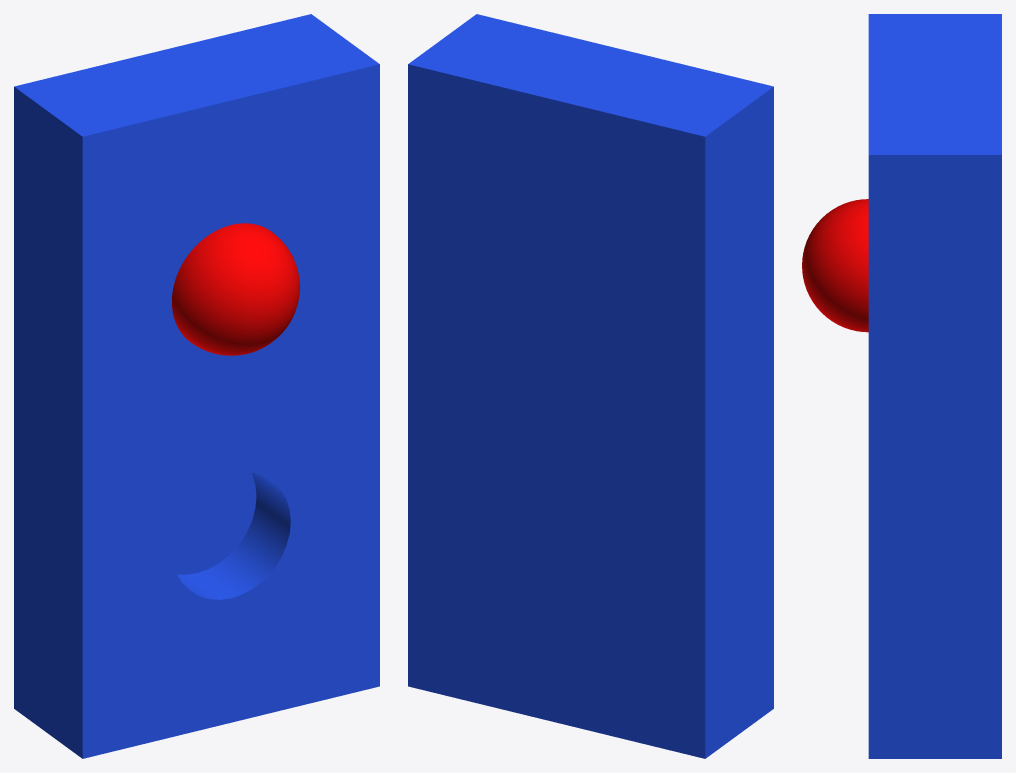
File: plug joint v1.fbx
3 views of the same model, side by side, from view 1: azimuth 30°, elevation 25°; view 2: azimuth 150°, elevation 25°; view 3: azimuth 270°, elevation 25° (orthographic). The views are drawn at different scales.
Visible parts, largest first — view 1: Body2, Body1, Body3; view 2: Body1, Body2; view 3: Body2, Body1, Body3.
Part boxes in pixels (x1,y1,x2,y2): Body2: [48, 39, 379, 758]; Body1: [14, 14, 344, 733]; Body3: [172, 223, 299, 355]; Body1: [408, 39, 739, 758]; Body2: [443, 14, 773, 733]; Body2: [868, 14, 935, 758]; Body1: [935, 14, 1001, 758]; Body3: [802, 199, 868, 332].
Size of the model in its own units: 127 by 254 by 76.2.
